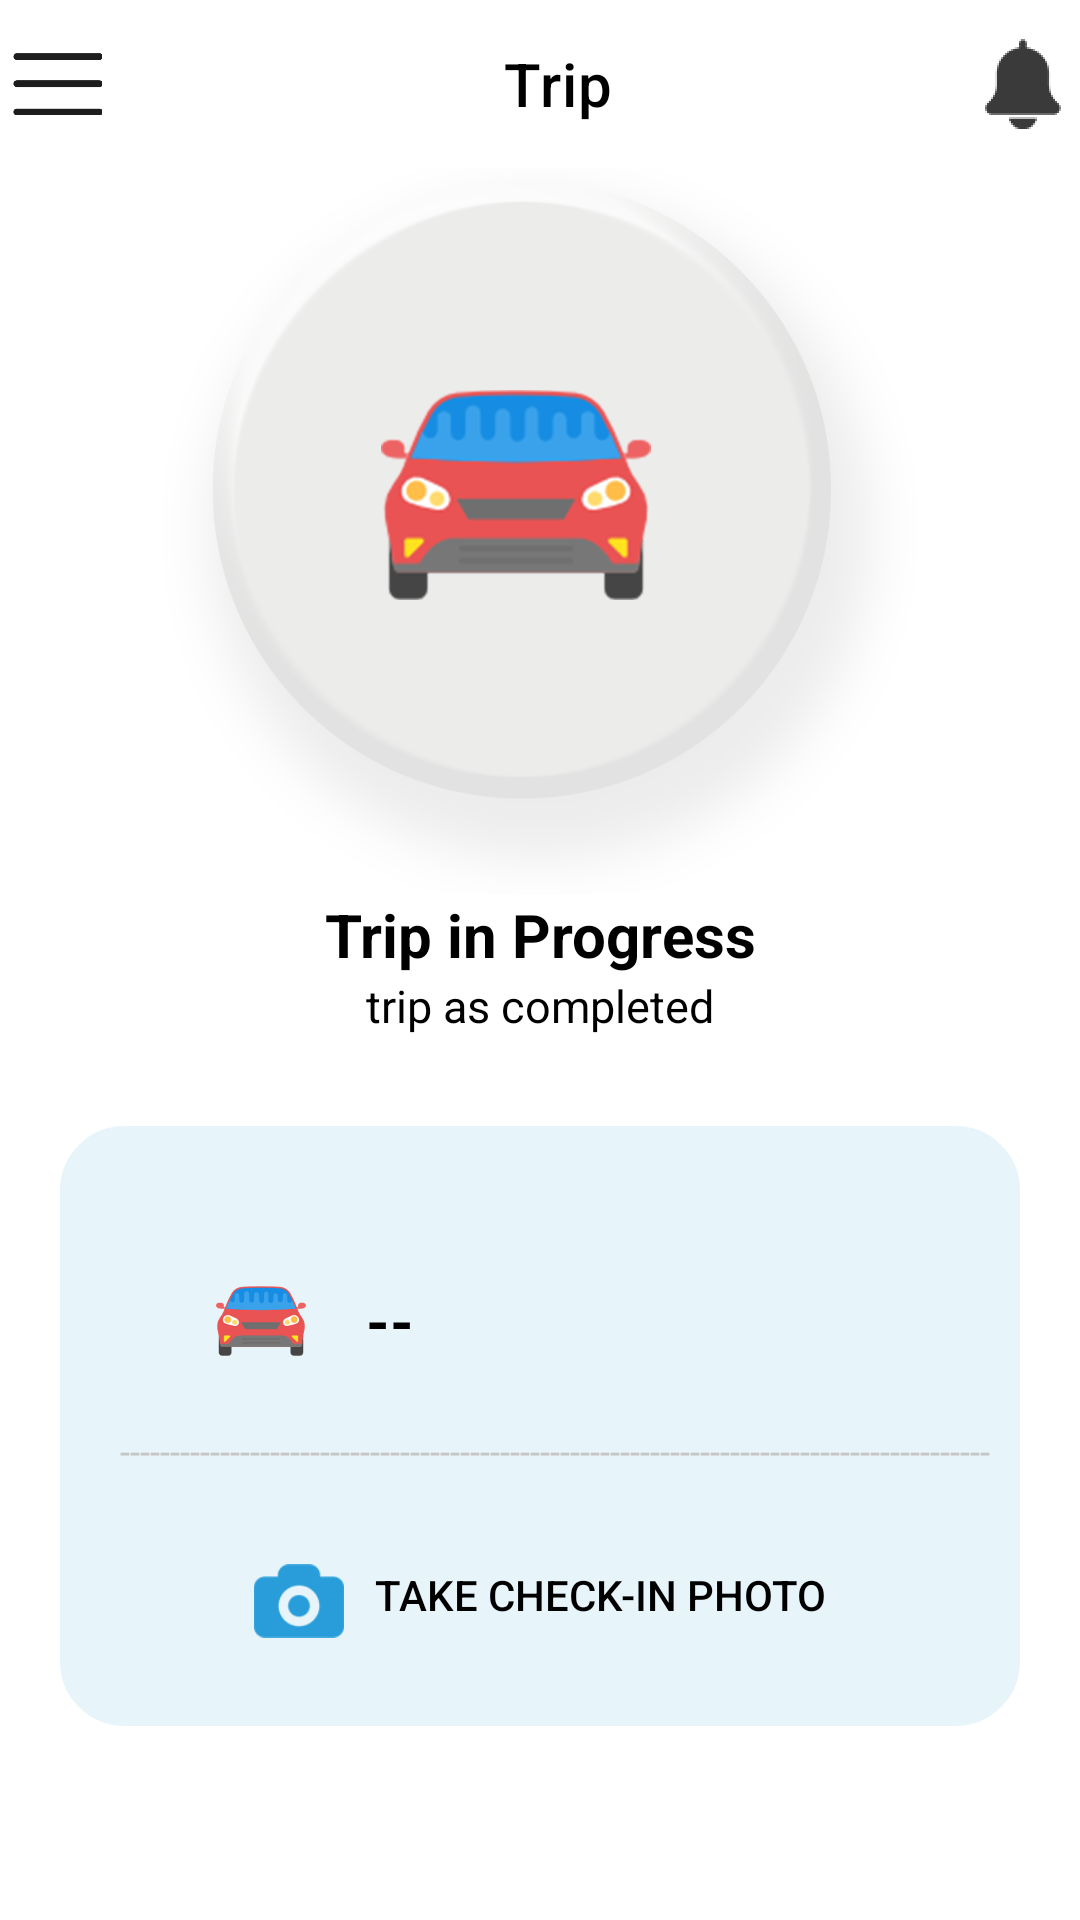

Point at icon controls on the screen. Image size 1080 × 1920, points as (x,y).
camera: (299,1601)
menu: (57,84)
notifcation: (1023,84)
redcar: (516,495), (261,1321)
